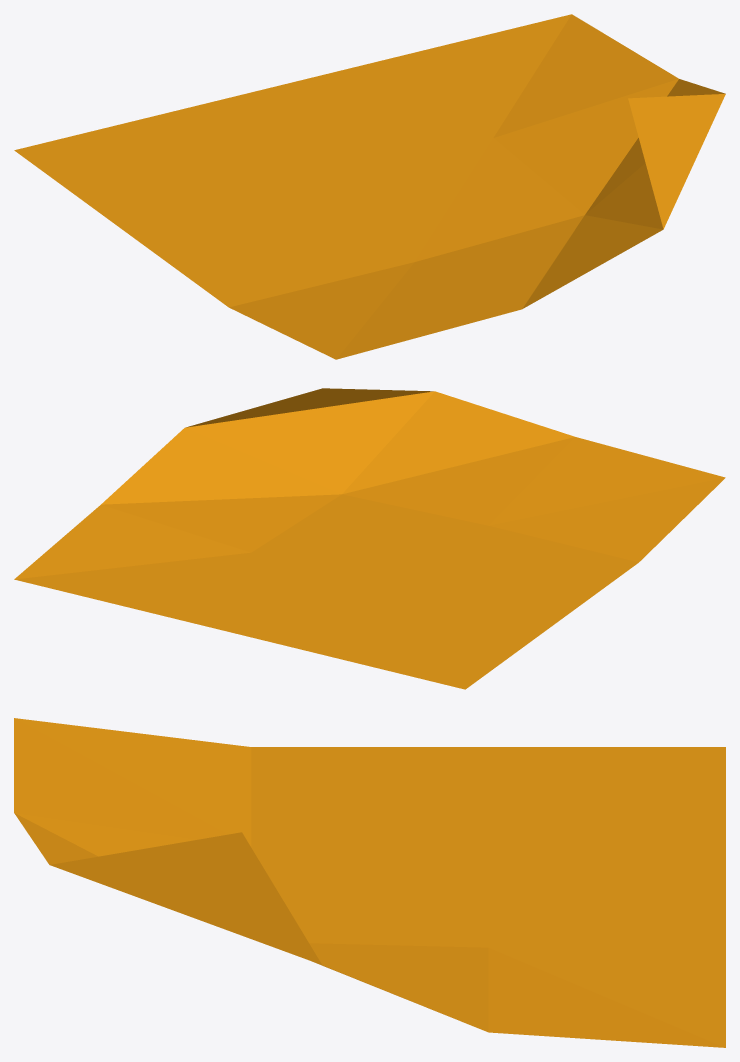
Rendered from postit_bent.fbx.
The picture shows the model from 3 angles, top to bottom: view 1: azimuth 30°, elevation 25°; view 2: azimuth 150°, elevation 25°; view 3: azimuth 270°, elevation 25°; orthographic projection. The views are drawn at different scales.
Visible parts, largest first — view 1: PostItBent; view 2: PostItBent; view 3: PostItBent.
Part boxes in pixels (x1,y1,x2,y2): PostItBent: (14, 14, 725, 359); PostItBent: (14, 388, 725, 689); PostItBent: (14, 718, 725, 1047).
Bounding box in the file's own units: 31.35 × 6.22 × 31.35.
